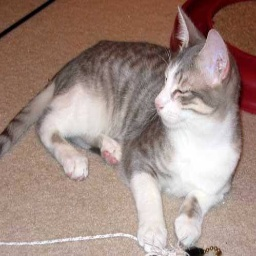cat: (20, 10, 244, 247)
